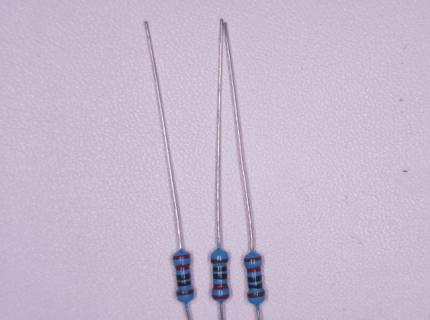Black band: (249, 282, 263, 290), (177, 273, 190, 281), (248, 275, 262, 282), (177, 281, 191, 287), (213, 267, 227, 272), (213, 274, 227, 279)
Brown band: (176, 288, 193, 296), (248, 291, 265, 298), (211, 259, 228, 264)
Red band: (173, 254, 190, 260), (175, 264, 189, 271), (247, 266, 261, 273), (213, 283, 229, 289), (244, 257, 262, 262), (212, 294, 229, 299)
